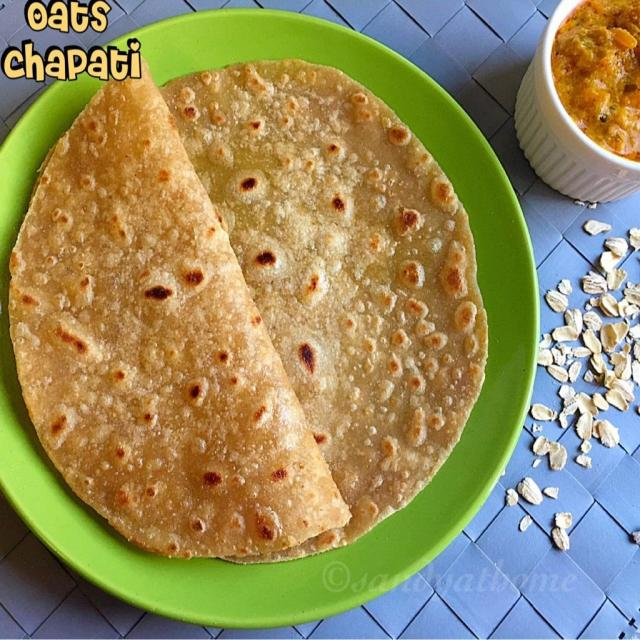roti: (5, 54, 349, 560), (162, 55, 489, 537)
